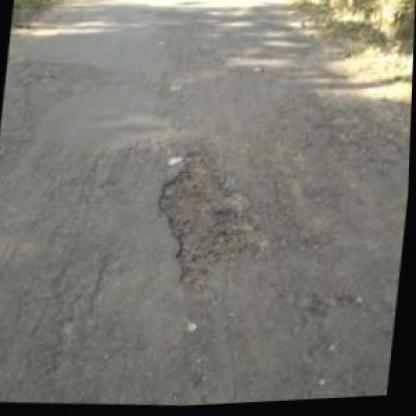pothole: (147, 139, 280, 305)
